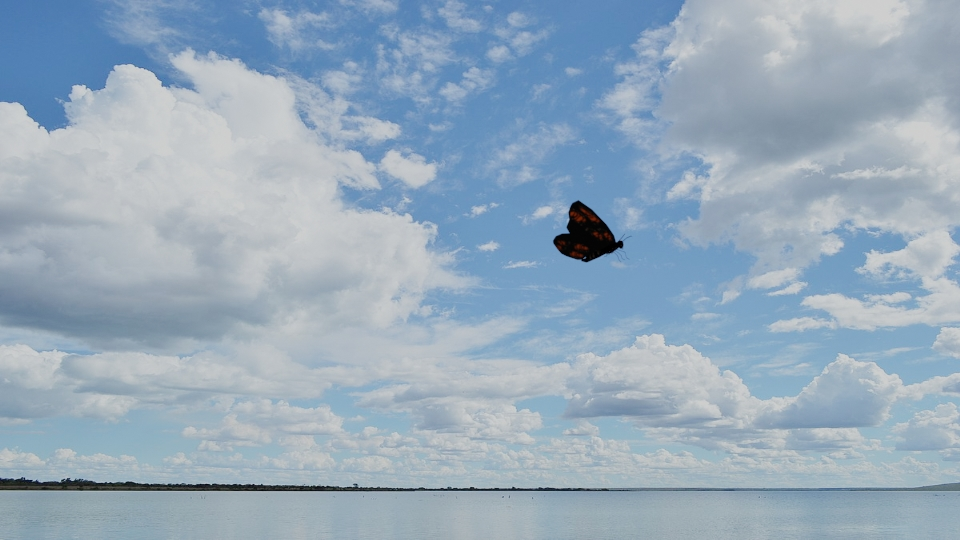insect: (553, 200, 625, 265)
